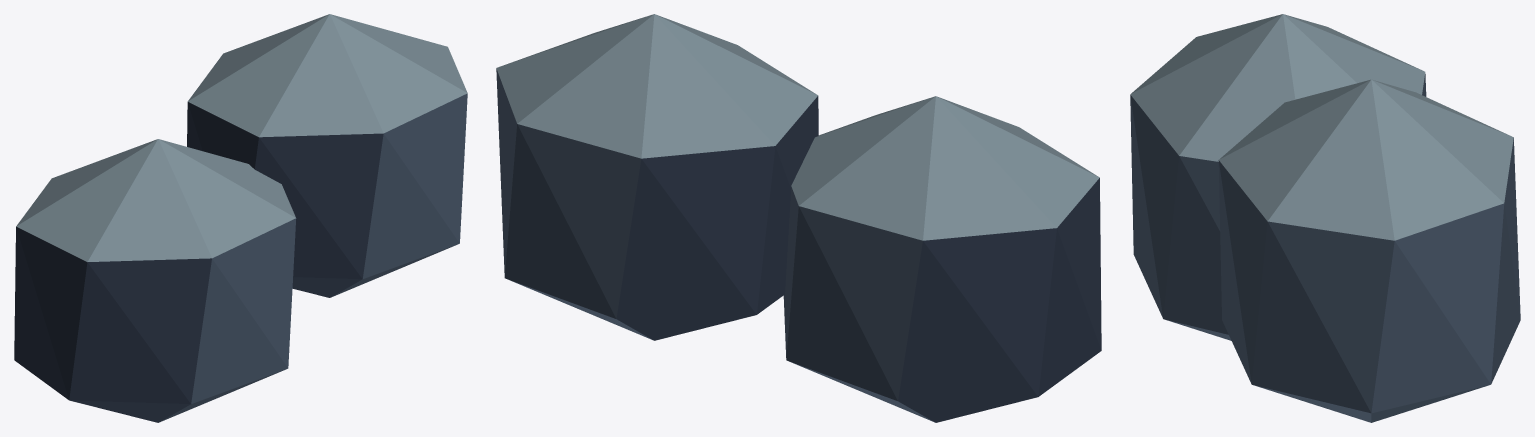
The model's file is TW_VEG_BUSH_SPARSE_A_LOD0.glb.
3 renders of one model, left to right at view 1: azimuth 30°, elevation 25°; view 2: azimuth 150°, elevation 25°; view 3: azimuth 270°, elevation 25°, orthographic. The views are drawn at different scales.
Visible parts, largest first — view 1: TW_VEG_BUSH_SPARSE_A_LOD0; view 2: TW_VEG_BUSH_SPARSE_A_LOD0; view 3: TW_VEG_BUSH_SPARSE_A_LOD0.
Boxes of the visible parts, x1,y1,x2,y2 form: TW_VEG_BUSH_SPARSE_A_LOD0: (14, 14, 467, 422); TW_VEG_BUSH_SPARSE_A_LOD0: (496, 14, 1101, 422); TW_VEG_BUSH_SPARSE_A_LOD0: (1130, 14, 1520, 422).
Size of the model in its own units: 1.02 by 0.7 by 0.6183.
Materials: 1 (1 with a texture image).
